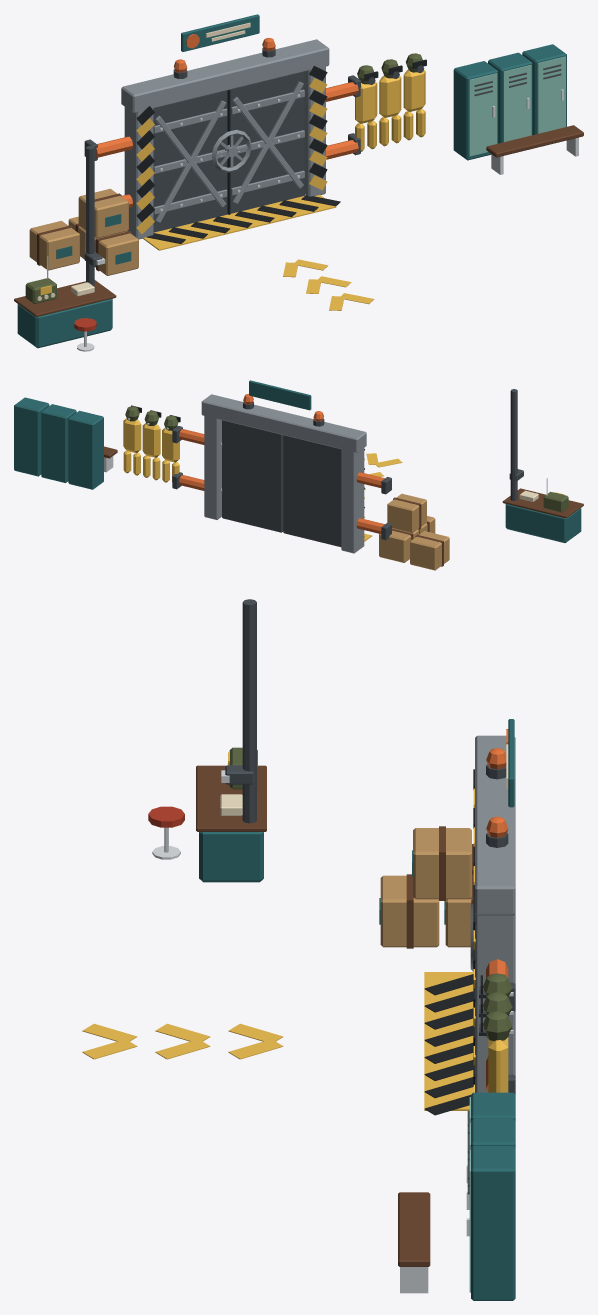
File: Kit_BlastDoor_L2.fbx
3 views of the same model, one above another, from view 1: azimuth 30°, elevation 25°; view 2: azimuth 150°, elevation 25°; view 3: azimuth 270°, elevation 25° (orthographic). The views are drawn at different scales.
Visible parts, largest first — view 1: Decor, Leaves, Frame, Crates, GuardDesk, Lockers, Bench; view 2: Leaves, Decor, Frame, Lockers, Crates, GuardDesk; view 3: Decor, Frame, Lockers, Crates, GuardDesk, Bench.
Part boxes in pixels (x1,y1,x2,y2): Decor: (25, 14, 565, 351); Leaves: (153, 71, 304, 232); Frame: (121, 39, 329, 239); Crates: (29, 188, 138, 275); GuardDesk: (14, 280, 116, 348); Lockers: (453, 44, 566, 160); Bench: (486, 125, 583, 174); Leaves: (222, 420, 341, 546); Decor: (123, 380, 568, 566); Frame: (201, 394, 366, 553); Lockers: (14, 397, 103, 489); Crates: (379, 493, 449, 570); GuardDesk: (502, 488, 583, 542); Decor: (82, 599, 515, 1292); Frame: (475, 735, 515, 1092); Lockers: (471, 1092, 515, 1300); Crates: (380, 828, 471, 947); GuardDesk: (196, 765, 266, 882); Bench: (398, 1192, 430, 1293).
Size of the model in its own units: 55.9 by 16.02 by 21.35.
